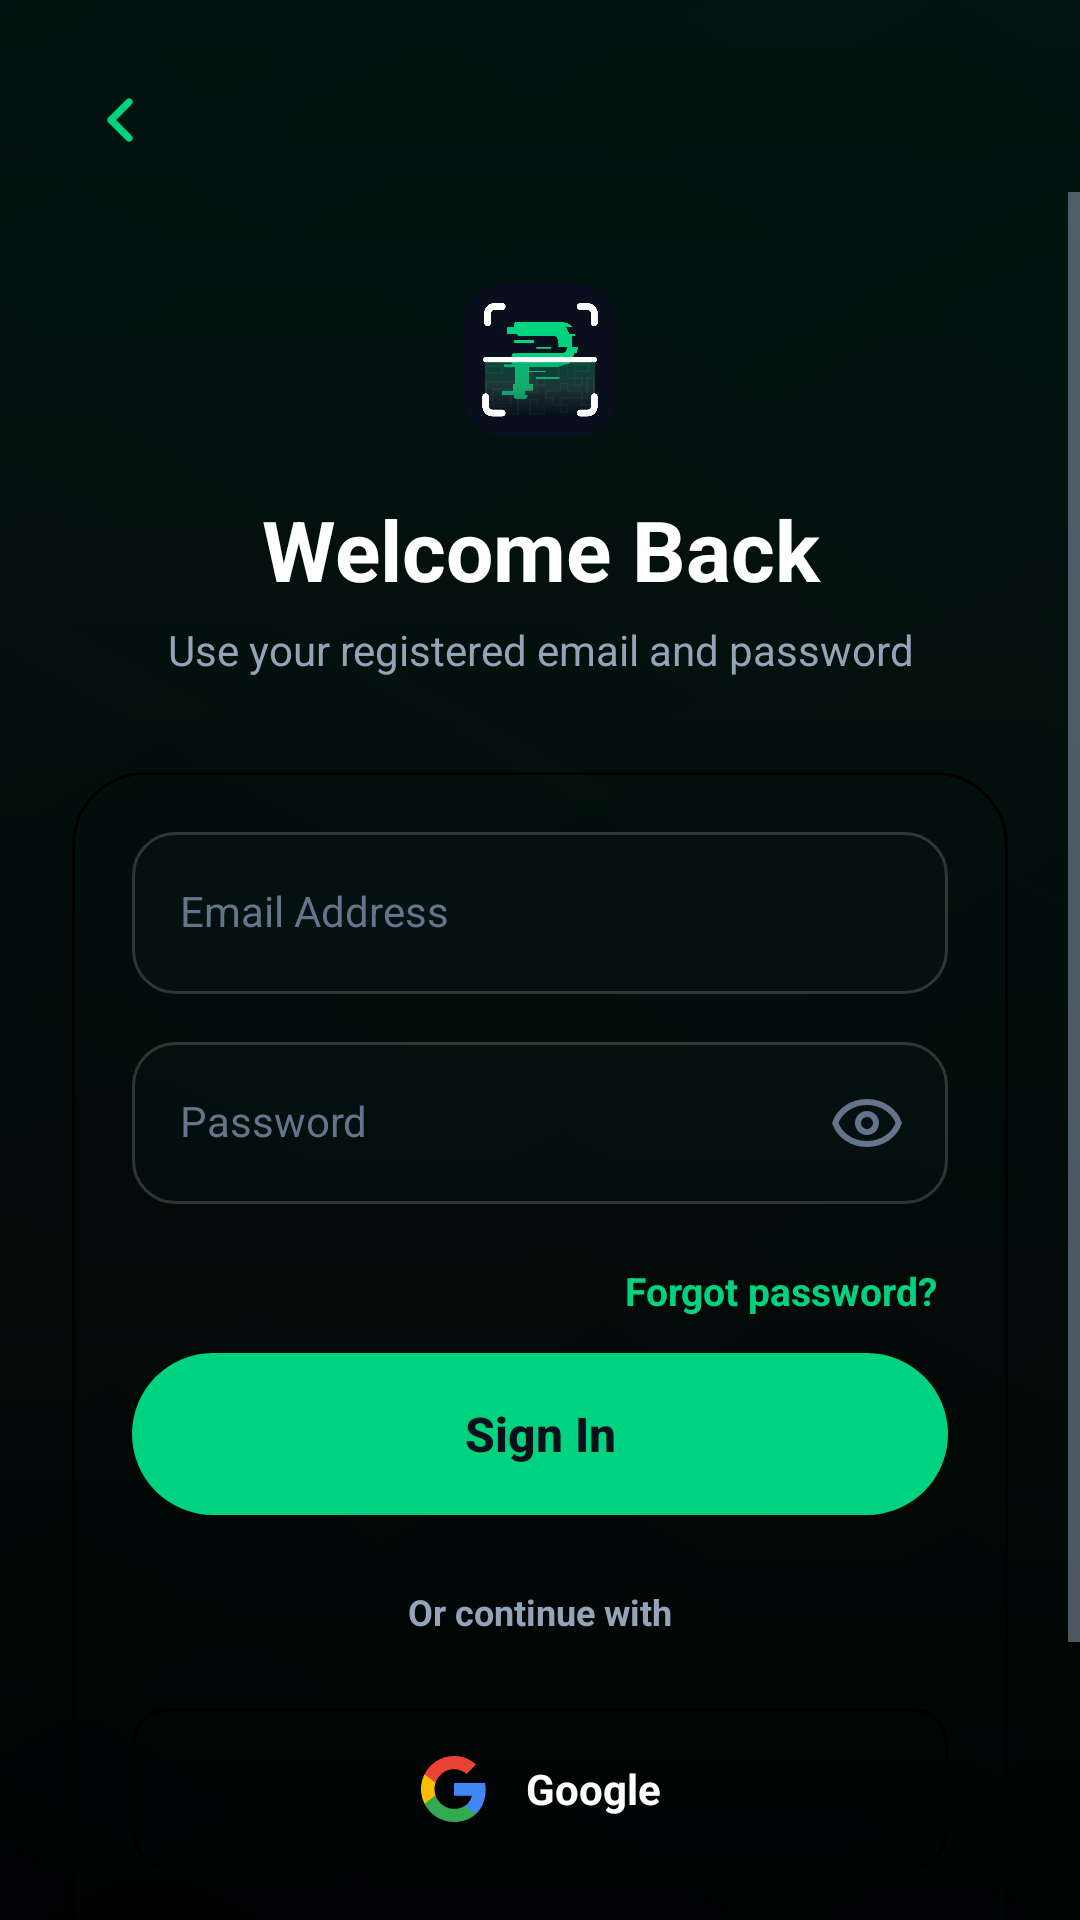

Named icons in this screenshot (1080w x 1920h) and their centers, (x=x, y=y):
arrow back: (x=120, y=120)
